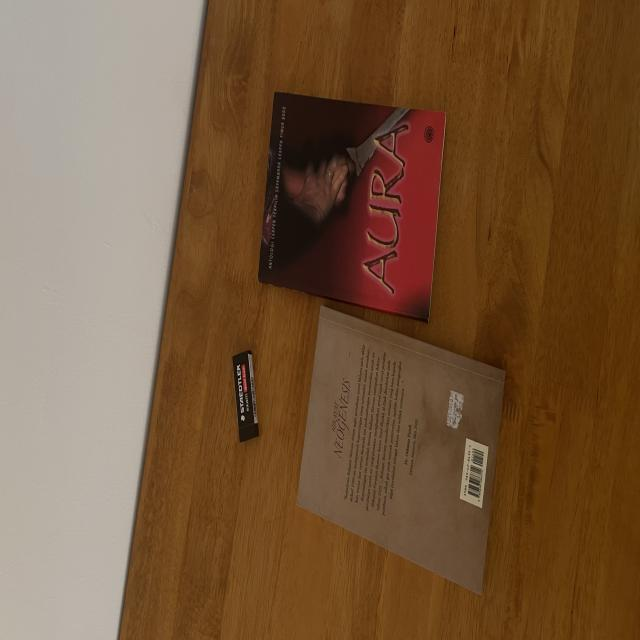eraser: (233, 350, 259, 442)
